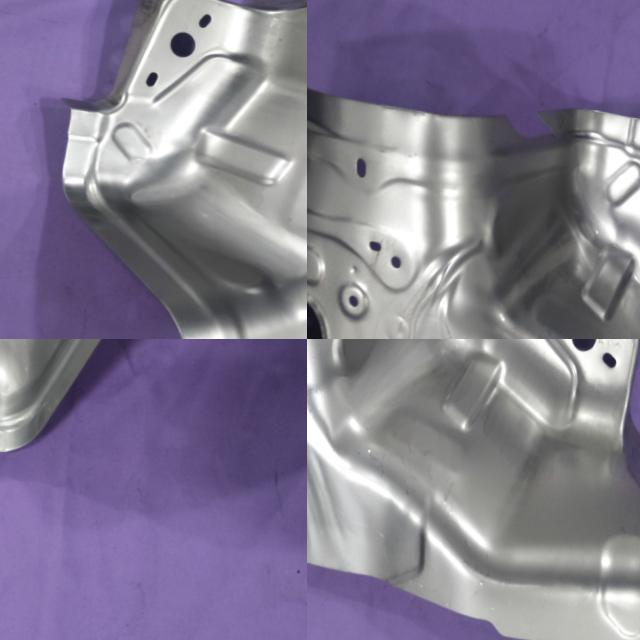Defect: (493, 82, 613, 164)
Healthy: (307, 339, 640, 640), (31, 0, 307, 339), (0, 339, 307, 488)
